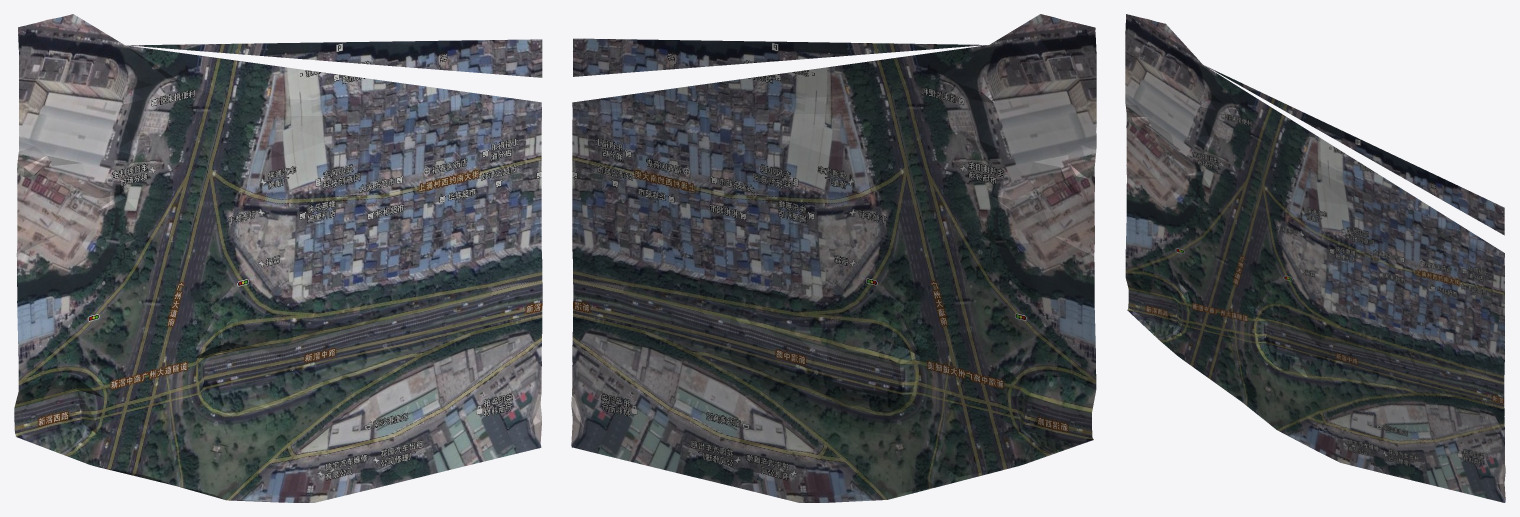
3 views of the same model, side by side, from view 1: azimuth 30°, elevation 25°; view 2: azimuth 150°, elevation 25°; view 3: azimuth 330°, elevation 25° (orthographic). The views are drawn at different scales.
Parts seen in each view (by area): view 1: 0_2_3_1_0_0; view 2: 0_2_3_1_0_0; view 3: 0_2_3_1_0_0.
Boxes of the visible parts, x1=… form: 0_2_3_1_0_0: x1=14, y1=14, x2=542, y2=502; 0_2_3_1_0_0: x1=571, y1=14, x2=1096, y2=502; 0_2_3_1_0_0: x1=1125, y1=14, x2=1505, y2=502.
Size of the model in its own units: 486 by 486 by 10.14.
Materials: 1 (1 with a texture image).
